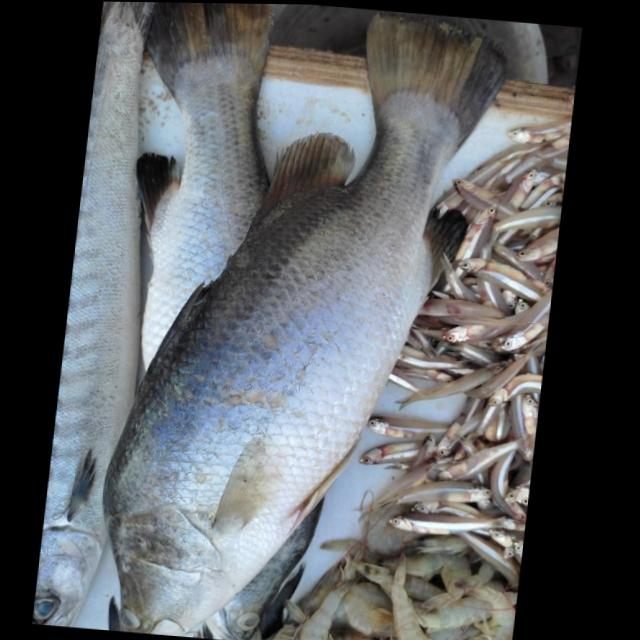Seabass: (86, 2, 515, 640)
